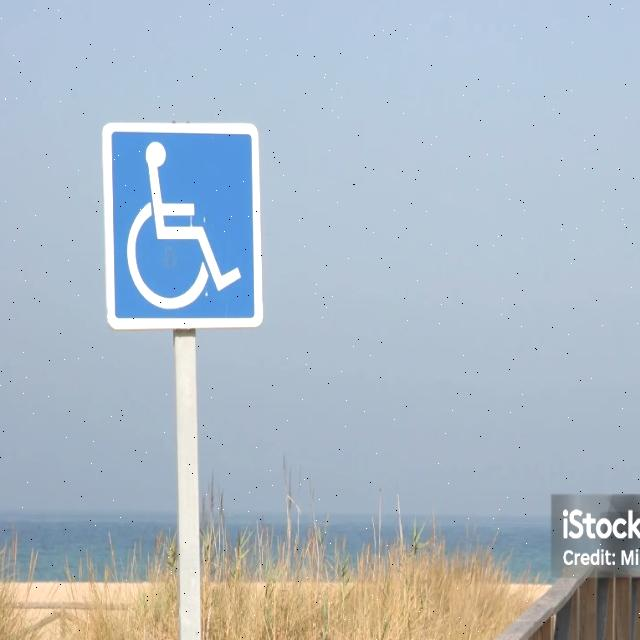symbol_of_access: (102, 118, 266, 332)
